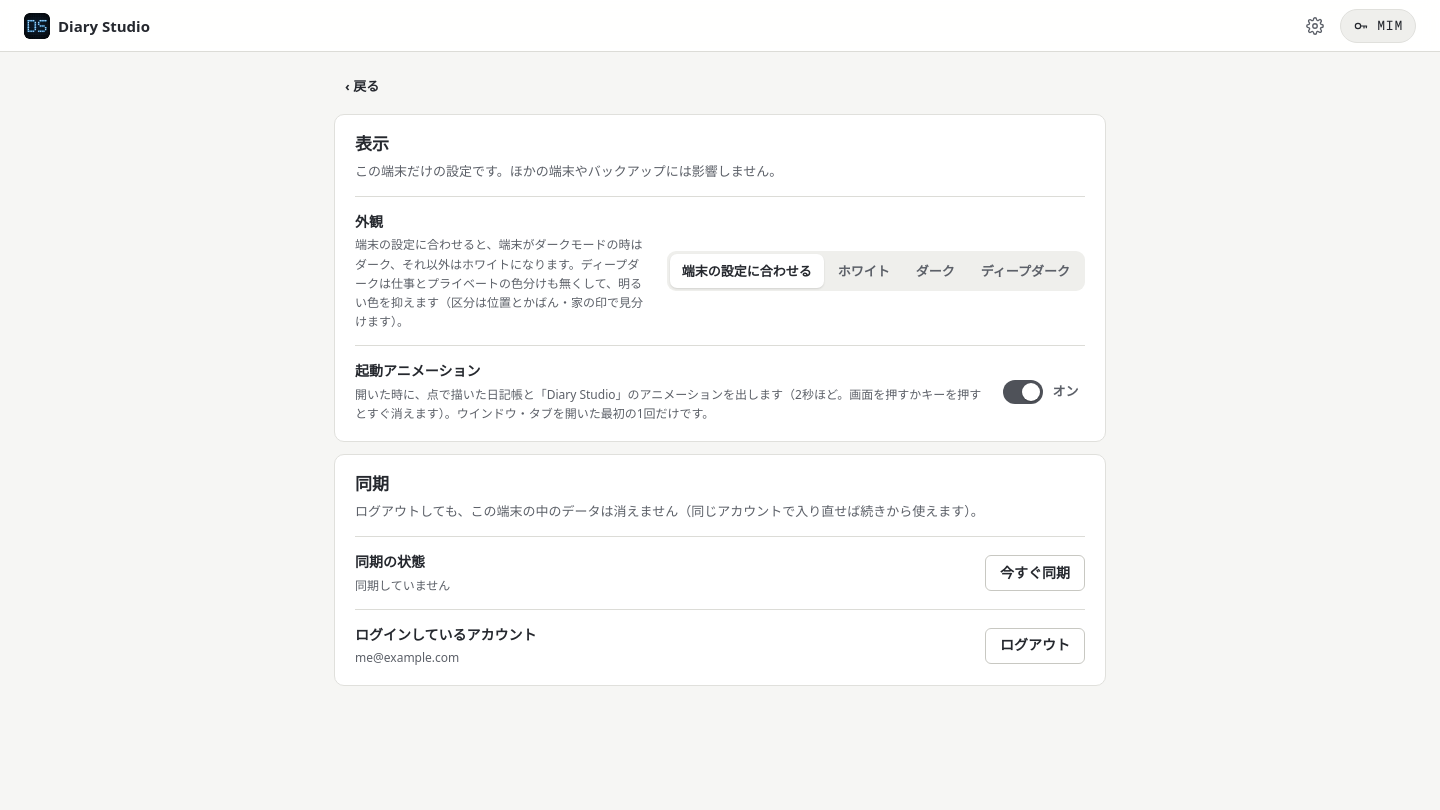
it: AppSettingsPage › ［ログアウト］でログインの画面に戻る
Click the button with test id "sign-out" at coordinates (1035, 646), box [985,628,1085,664]
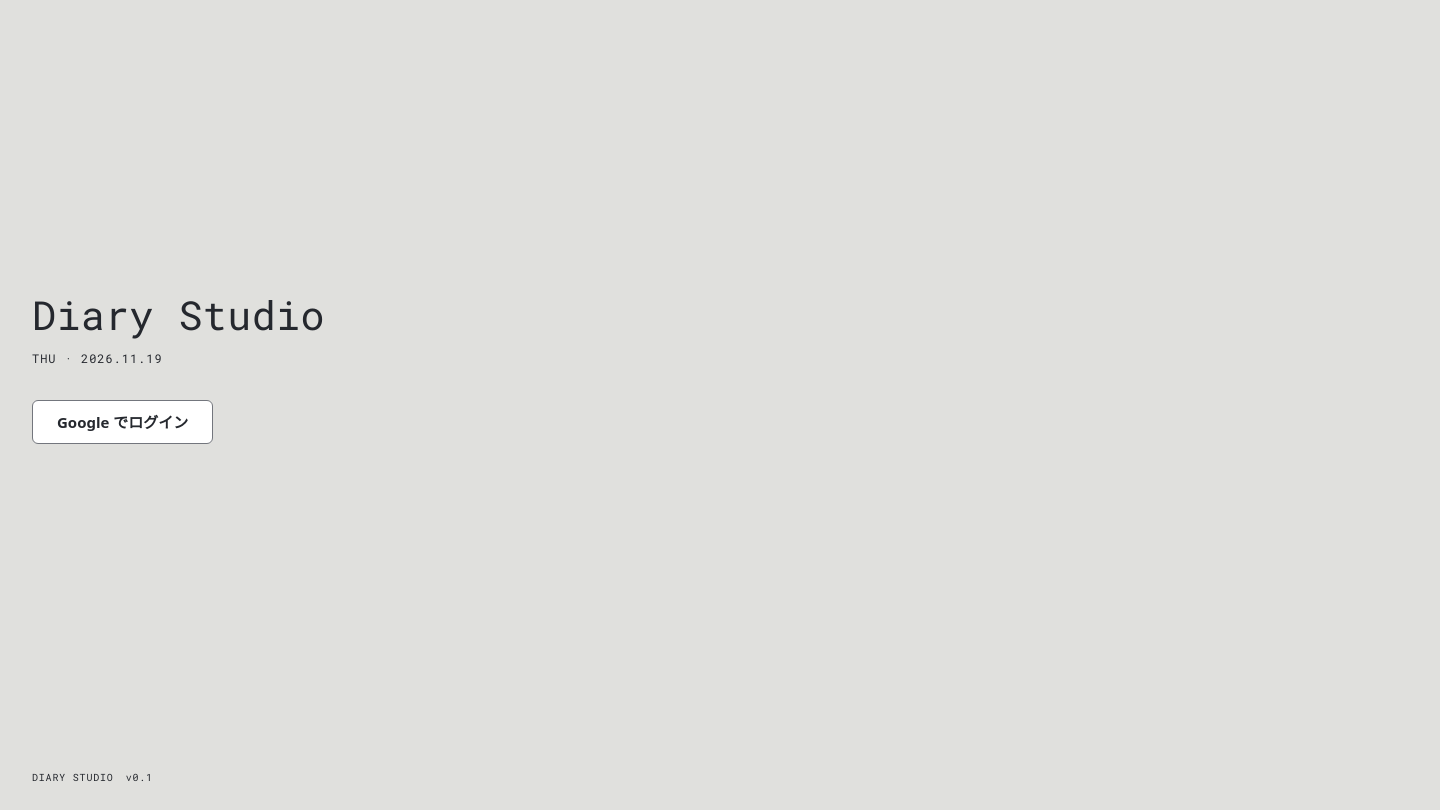
Result: the element with test id "login-page" is shown
